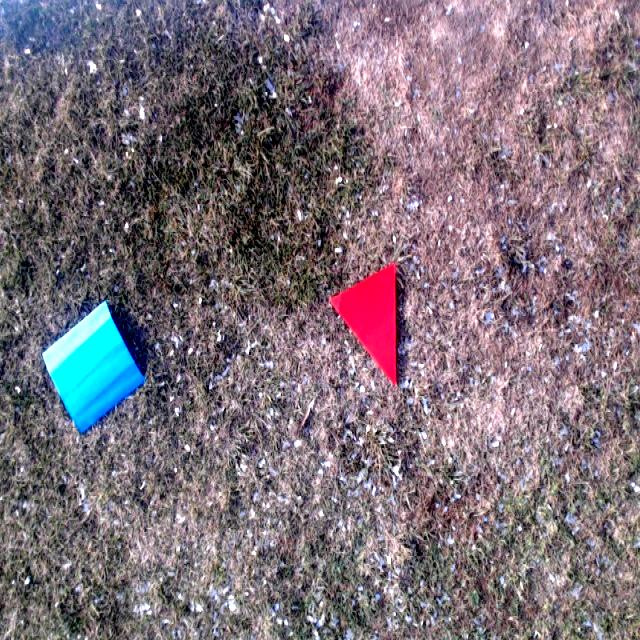blue_square: (42, 300, 145, 435)
red_triangle: (328, 262, 397, 389)
